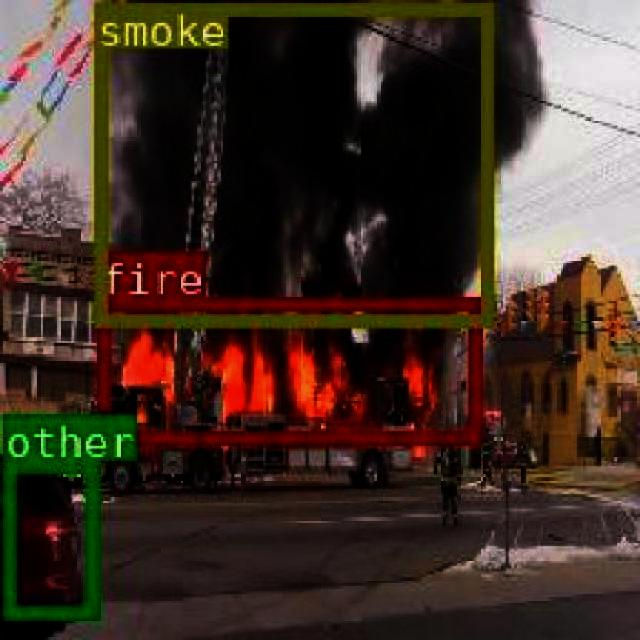fire: (94, 296, 480, 441)
smoke: (94, 1, 490, 326)
